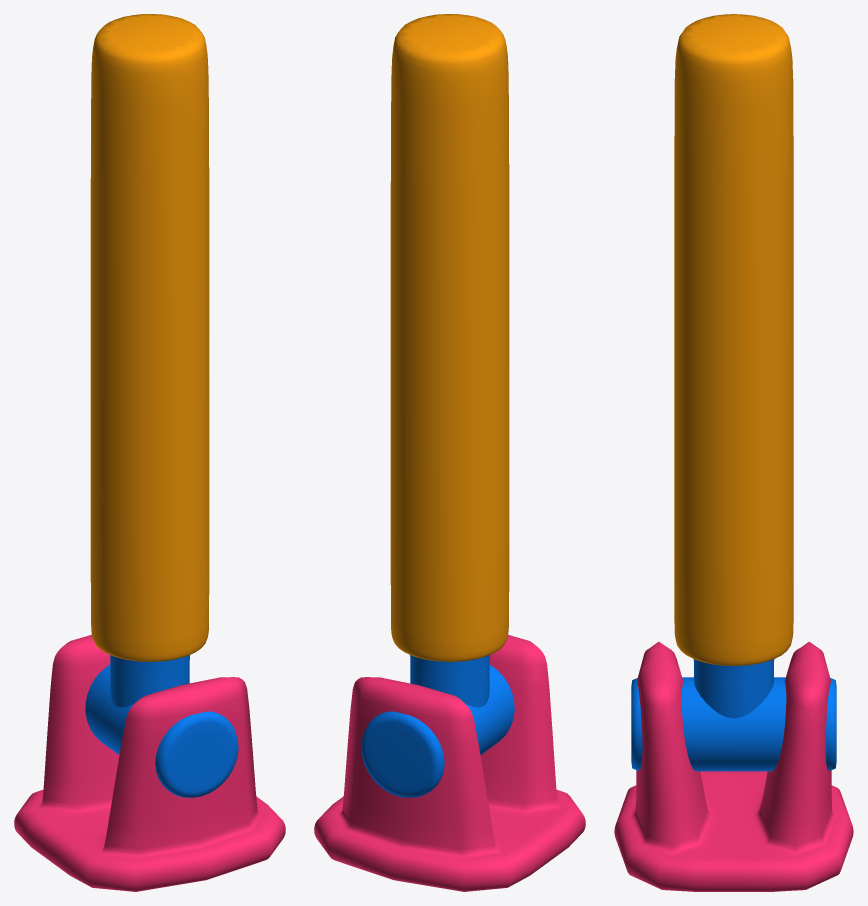
3 renders of one model, left to right at view 1: azimuth 30°, elevation 25°; view 2: azimuth 150°, elevation 25°; view 3: azimuth 270°, elevation 25°, orthographic.
Parts seen in each view (by area): view 1: Kol.001, Cube; view 2: Kol.001, Cube; view 3: Kol.001, Cube.
Boxes of the visible parts, x1,y1,x2,y2 form: Kol.001: [85, 14, 238, 797]; Cube: [14, 635, 285, 891]; Kol.001: [361, 14, 514, 797]; Cube: [314, 635, 585, 891]; Kol.001: [631, 14, 836, 771]; Cube: [614, 641, 853, 891].
Size of the model in its own units: 15.96 by 59.98 by 15.98.
